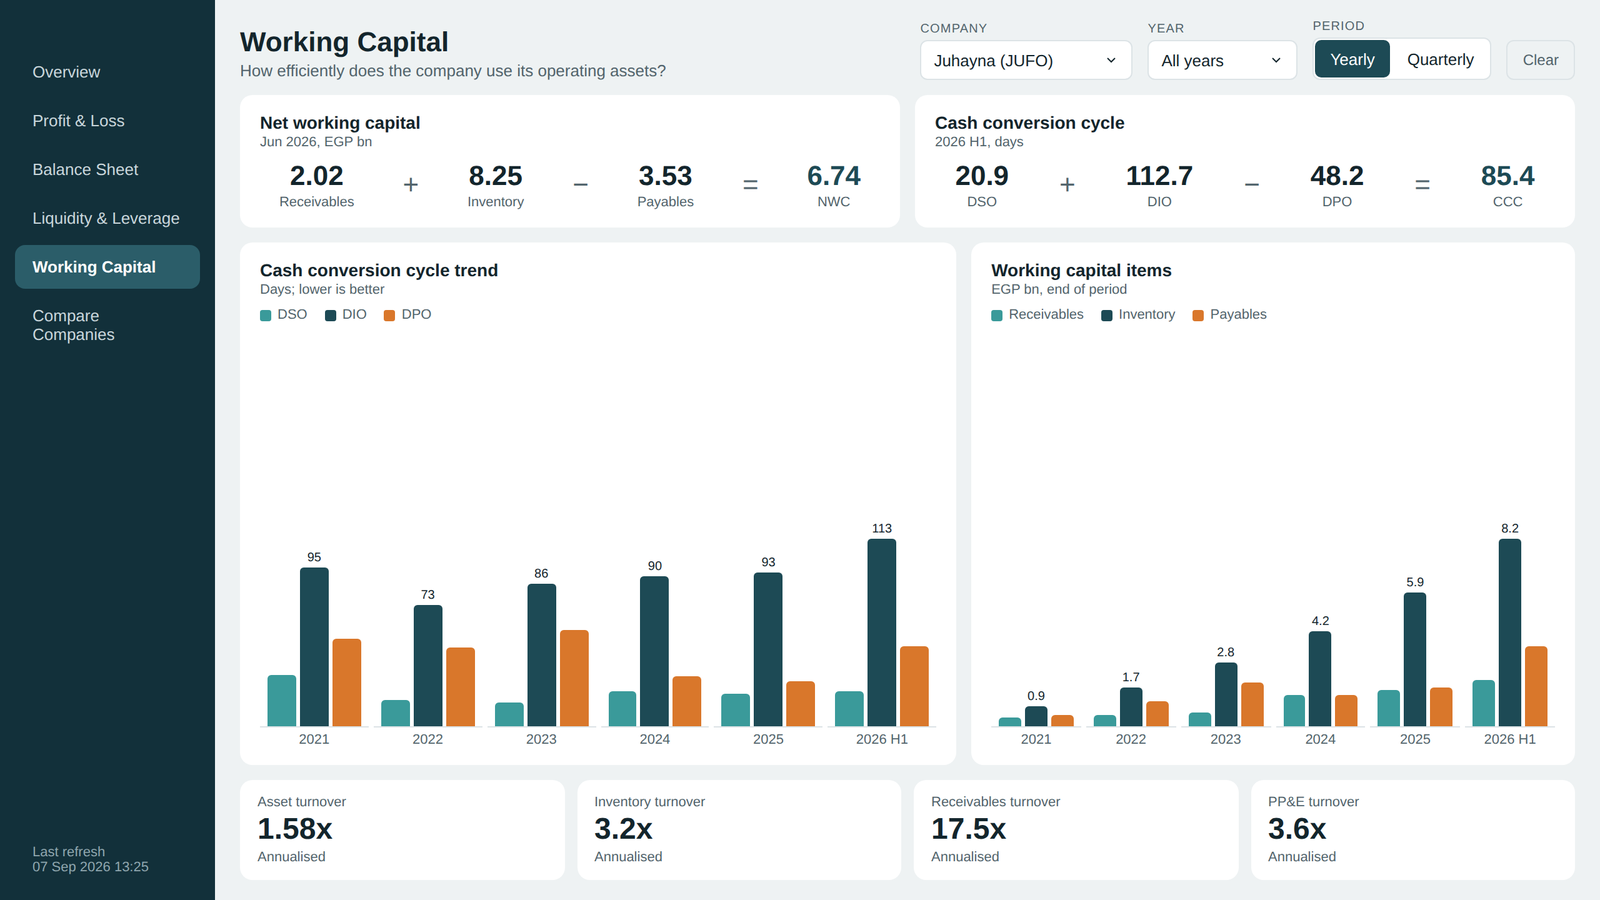

This screenshot's page, from the dashboard's own definition file:
{"tool":"powerbi","page":{"name":"Working Capital","canvas":[1280,720],"ordinal":4},"visuals":[{"type":"multiRowCard","title":"Net working capital","fields":{"Values":["Measures List.AR (card)","Measures List.Inventory (card)","Measures List.AP (card)","Measures List.Net Working Capital (card)"]},"box":[192,78,528,100],"z":10},{"type":"multiRowCard","title":"Cash conversion cycle","fields":{"Values":["Measures List.DSO (card)","Measures List.DIO (card)","Measures List.DPO (card)","Measures List.CCC (card)"]},"box":[732,78,528,100],"z":11},{"type":"card","title":"Asset turnover","fields":{"Values":["Measures List.Asset Turnover (ann.) (card)"]},"box":[192,602,260,102],"z":12},{"type":"card","title":"Inventory turnover","fields":{"Values":["Measures List.Inventory Turnover (ann.) (card)"]},"box":[462,602,260,102],"z":13},{"type":"card","title":"Receivables turnover","fields":{"Values":["Measures List.Receivables Turnover (ann.) (card)"]},"box":[731,602,260,102],"z":14},{"type":"card","title":"PP&E turnover","fields":{"Values":["Measures List.PP&E Turnover (ann.) (card)"]},"box":[1000,602,260,102],"z":15},{"type":"clusteredColumnChart","title":"Cash conversion cycle trend","fields":{"Category":["DimDate.Year"],"Y":["Measures List.DSO (chart)","Measures List.DIO (chart)","Measures List.DPO (chart)"]},"box":[192,190,576,400],"z":20},{"type":"clusteredColumnChart","title":"Working capital items","fields":{"Category":["DimDate.Year"],"Y":["Measures List.AR (chart)","Measures List.Inventory (chart)","Measures List.AP (chart)"]},"box":[780,190,480,400],"z":21},{"type":"pageNavigator","box":[12,38,150,270],"z":50},{"type":"card","title":"Last refresh","fields":{"Values":["Max(Last Refreash.Date)"]},"box":[12,656,150,52],"z":51},{"type":"textbox","box":[188,0,540,46],"z":52},{"type":"textbox","box":[188,44,540,30],"z":53},{"type":"slicer","title":"COMPANY","fields":{"Values":["FactFinancials.Company"]},"box":[736,10,170,56],"z":54},{"type":"slicer","title":"YEAR","fields":{"Values":["DimDate.Year"]},"box":[918,10,120,56],"z":55},{"type":"actionButton","box":[1205,34,55,30],"z":56}]}

Visuals, with their boxes on the page's 1280x720 design canvas (x1, y1, x2, y2). These are canvas units, not pixel positions in the 1600x900 screenshot, which may show the page scaled, cropped or inside an application window:
"Net working capital" multiRowCard: 192,78,720,178
"Cash conversion cycle" multiRowCard: 732,78,1260,178
"Asset turnover" card: 192,602,452,704
"Inventory turnover" card: 462,602,722,704
"Receivables turnover" card: 731,602,991,704
"PP&E turnover" card: 1000,602,1260,704
"Cash conversion cycle trend" clusteredColumnChart: 192,190,768,590
"Working capital items" clusteredColumnChart: 780,190,1260,590
pageNavigator: 12,38,162,308
"Last refresh" card: 12,656,162,708
textbox: 188,0,728,46
textbox: 188,44,728,74
"COMPANY" slicer: 736,10,906,66
"YEAR" slicer: 918,10,1038,66
actionButton: 1205,34,1260,64
